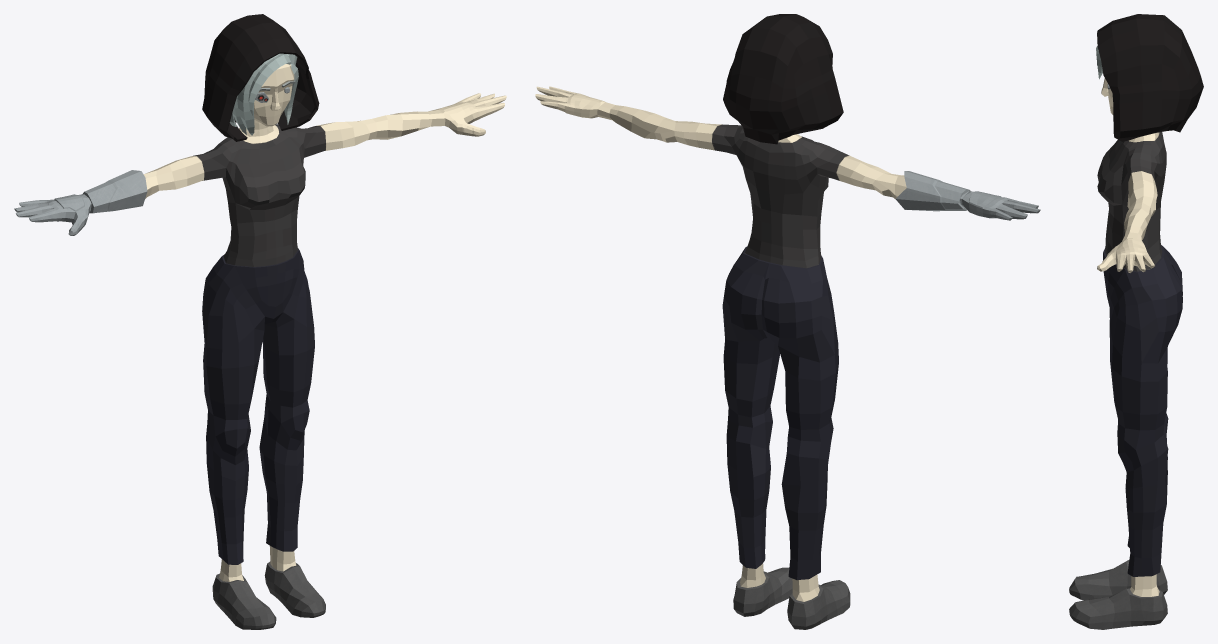
File: Cyberpunk characters moedels5.fbx
3 views of the same model, side by side, from view 1: azimuth 30°, elevation 25°; view 2: azimuth 150°, elevation 25°; view 3: azimuth 270°, elevation 25° (orthographic). The views are drawn at different scales.
Visible parts, largest first — view 1: Cyberpunk_characters5; view 2: Cyberpunk_characters5; view 3: Cyberpunk_characters5.
Boxes of the visible parts, x1,y1,x2,y2 form: Cyberpunk_characters5: (14, 14, 506, 629); Cyberpunk_characters5: (535, 14, 1040, 629); Cyberpunk_characters5: (1069, 14, 1203, 629).
Size of the model in its own units: 163 by 184 by 38.09.
